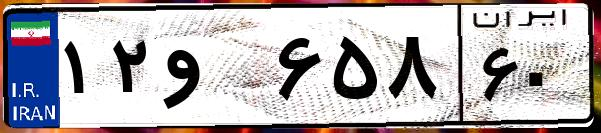0: (525, 38, 570, 115)
1: (57, 26, 110, 100)
2: (110, 28, 158, 98)
5: (330, 28, 385, 110)
6: (270, 28, 330, 110), (475, 38, 525, 113)
8: (385, 28, 445, 110)
و: (158, 20, 270, 120)
